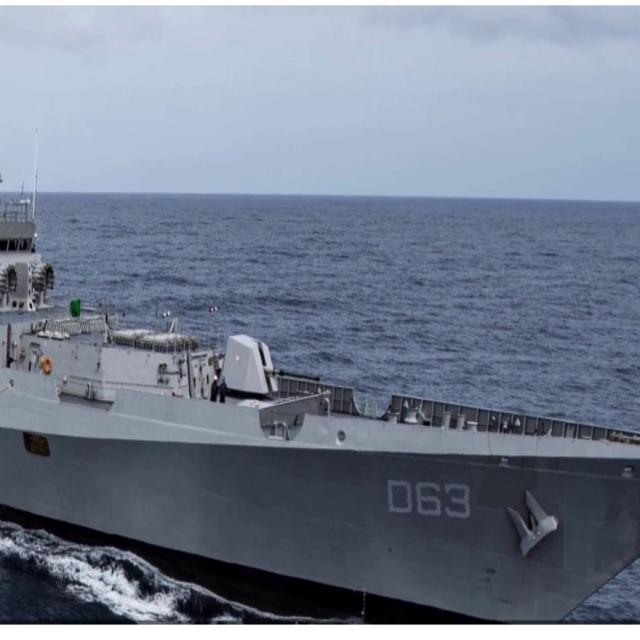OCR: (381, 476, 473, 535)
